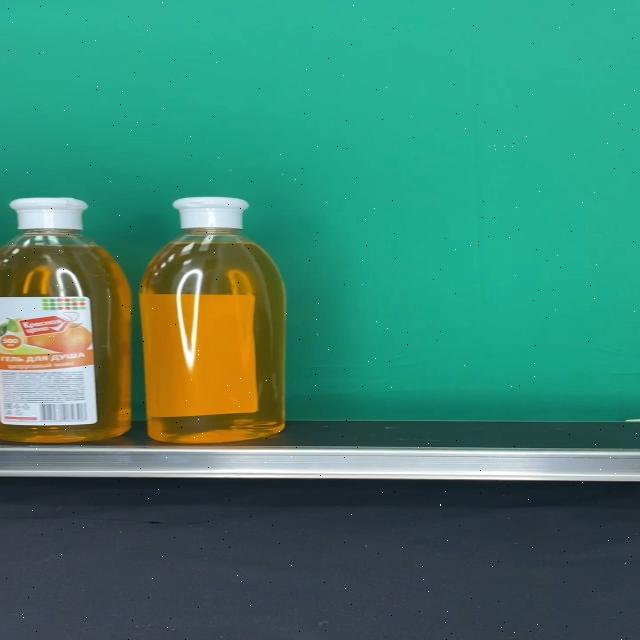Bottle: (140, 197, 286, 443), (0, 197, 131, 442)
Cap: (10, 198, 90, 231), (170, 197, 249, 229)
